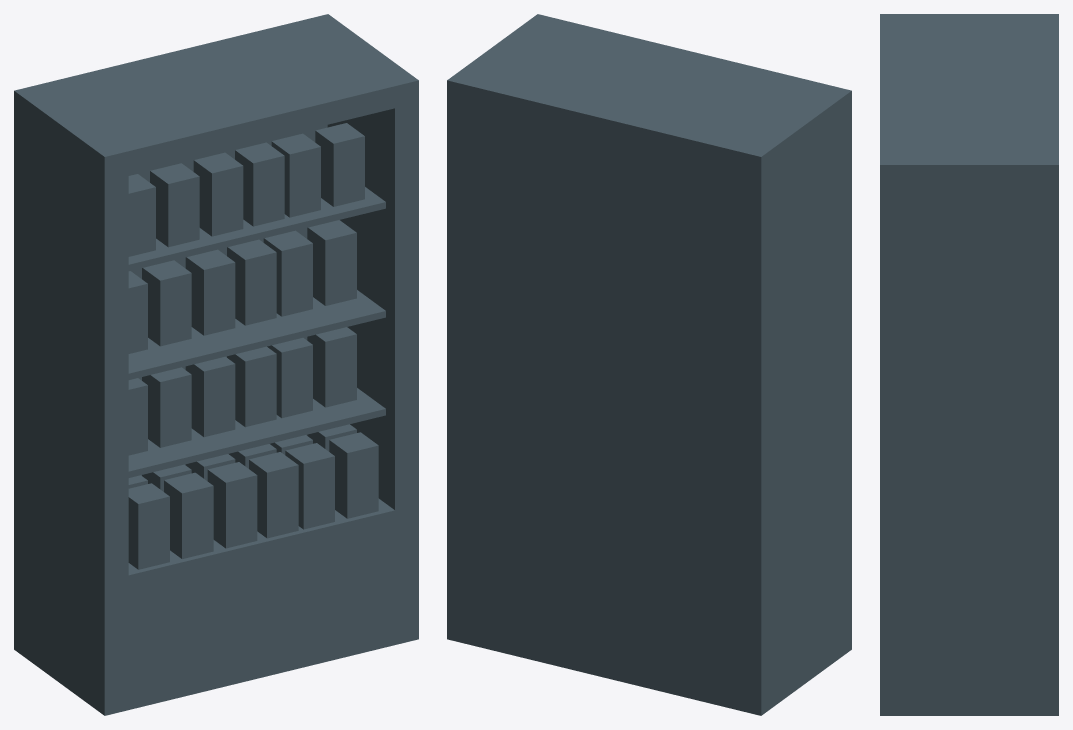
File: food_machine.fbx
3 views of the same model, side by side, from view 1: azimuth 30°, elevation 25°; view 2: azimuth 150°, elevation 25°; view 3: azimuth 270°, elevation 25° (orthographic).
Visible parts, largest first — view 1: food machine; view 2: food machine; view 3: food machine.
Boxes of the visible parts, left/top/right/bottom form: food machine: left=14, top=14, right=418, bottom=715; food machine: left=447, top=14, right=851, bottom=715; food machine: left=880, top=14, right=1058, bottom=715.
Size of the model in its own units: 100 by 170 by 50.
